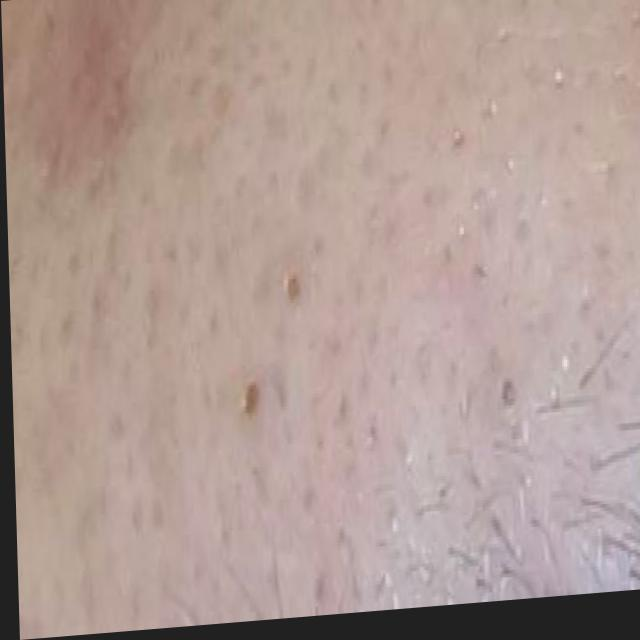dark spot: (232, 374, 269, 443), (494, 360, 519, 438), (269, 260, 301, 318)
